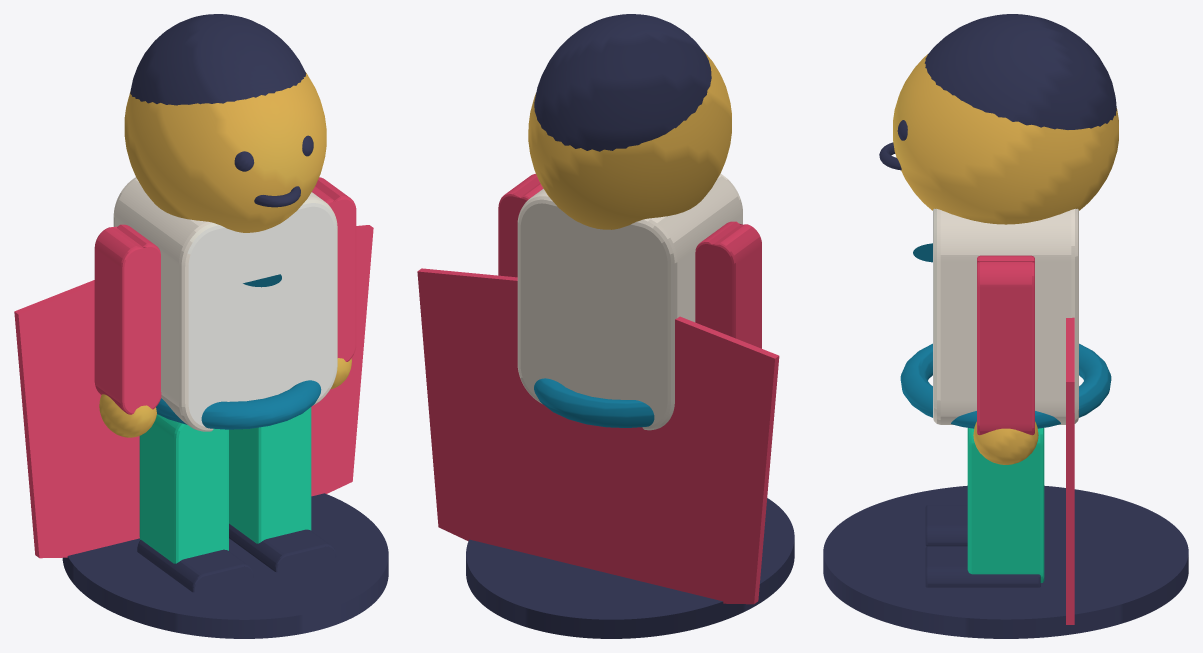
The model's file is 0657_史前人类图鉴_智人.glb.
3 renders of one model, left to right at view 1: azimuth 30°, elevation 25°; view 2: azimuth 150°, elevation 25°; view 3: azimuth 270°, elevation 25°, orthographic.
Parts seen in each view (by area): view 1: card_0657; view 2: card_0657; view 3: card_0657.
Boxes of the visible parts, bbox=[...] form: card_0657: bbox=[14, 14, 388, 638]; card_0657: bbox=[417, 14, 794, 638]; card_0657: bbox=[823, 14, 1188, 638].
Size of the model in its own units: 0.6739 by 1 by 0.5899.
